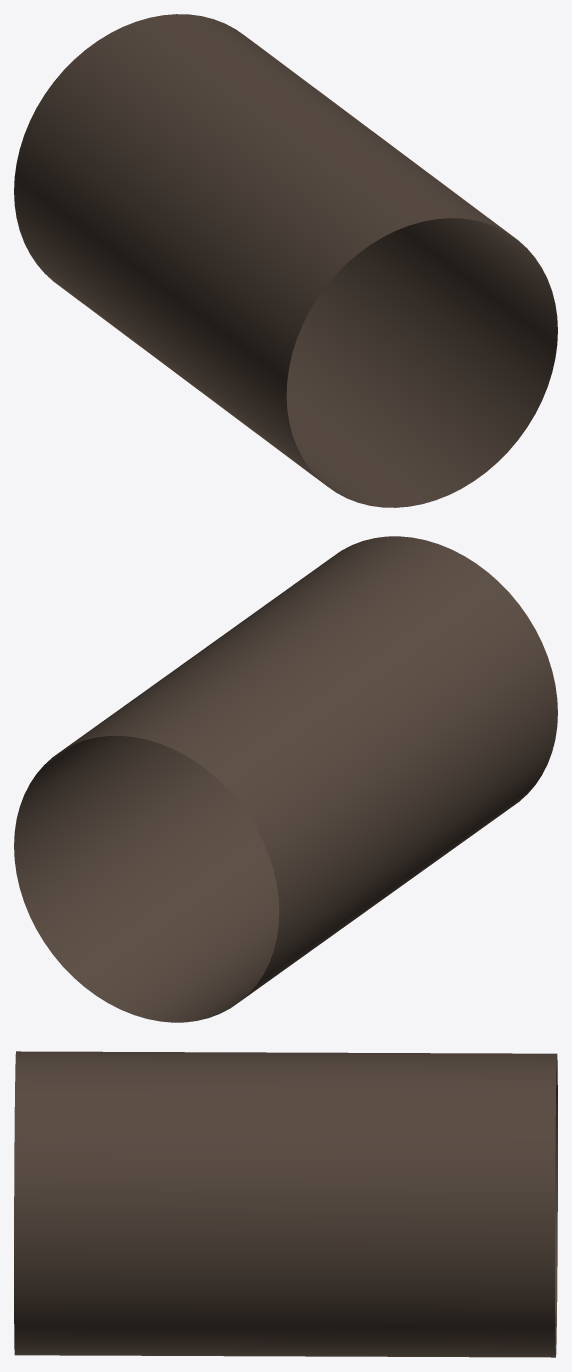
File: Nitrogen013.fbx
The picture shows the model from 3 angles, top to bottom: view 1: azimuth 30°, elevation 25°; view 2: azimuth 150°, elevation 25°; view 3: azimuth 270°, elevation 25°; orthographic projection. The views are drawn at different scales.
Parts seen in each view (by area): view 1: nitrogen.013; view 2: nitrogen.013; view 3: nitrogen.013.
Part boxes in pixels (left/top/right/bottom): nitrogen.013: left=14, top=14, right=557, bottom=507; nitrogen.013: left=14, top=536, right=557, bottom=1022; nitrogen.013: left=14, top=1051, right=557, bottom=1357.
Bounding box in the file's own units: 114 × 112 × 201.
